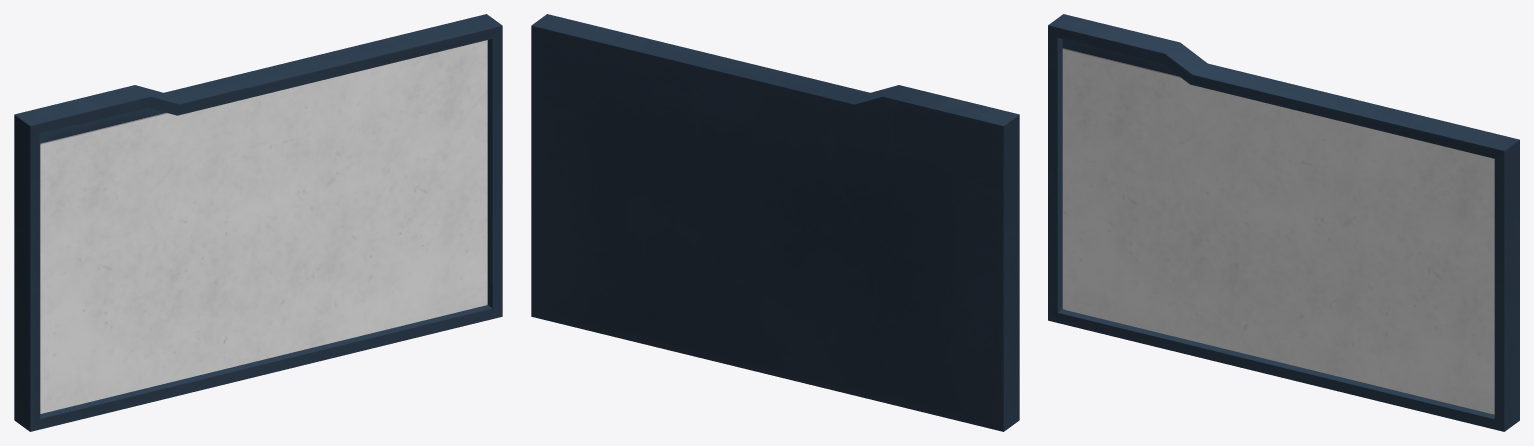
The model's file is Monitor.glb.
3 renders of one model, left to right at view 1: azimuth 30°, elevation 25°; view 2: azimuth 150°, elevation 25°; view 3: azimuth 330°, elevation 25°, orthographic. The views are drawn at different scales.
Parts seen in each view (by area): view 1: Monitor; view 2: Monitor; view 3: Monitor.
Part boxes in pixels (x1=…): Monitor: x1=14, y1=14, x2=502, y2=431; Monitor: x1=531, y1=14, x2=1019, y2=431; Monitor: x1=1048, y1=14, x2=1519, y2=431.
Bounding box in the file's own units: 3.4 × 2.1 × 0.2.
Materials: 1 (1 with a texture image).
